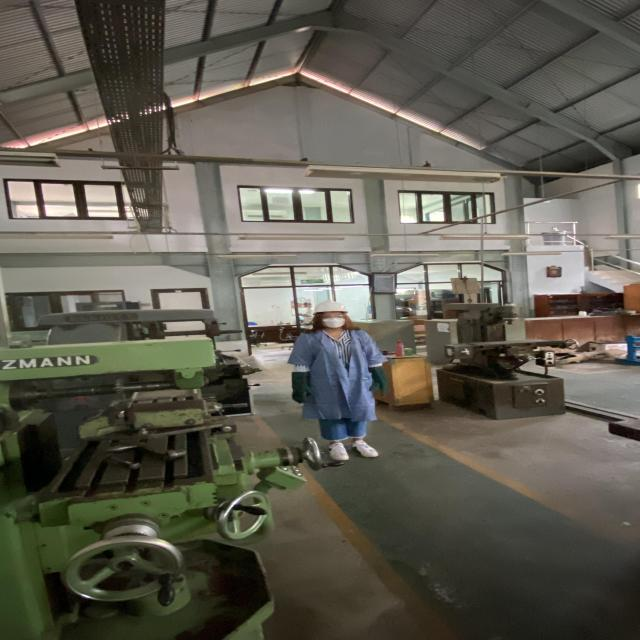face_mask: (318, 311, 348, 329)
glasses: (317, 312, 348, 320)
hand_glove: (286, 384, 317, 404), (366, 378, 390, 392)
head_helmet: (311, 299, 349, 313)
person: (287, 299, 396, 466)
shoes: (348, 437, 383, 459), (324, 439, 353, 463)
